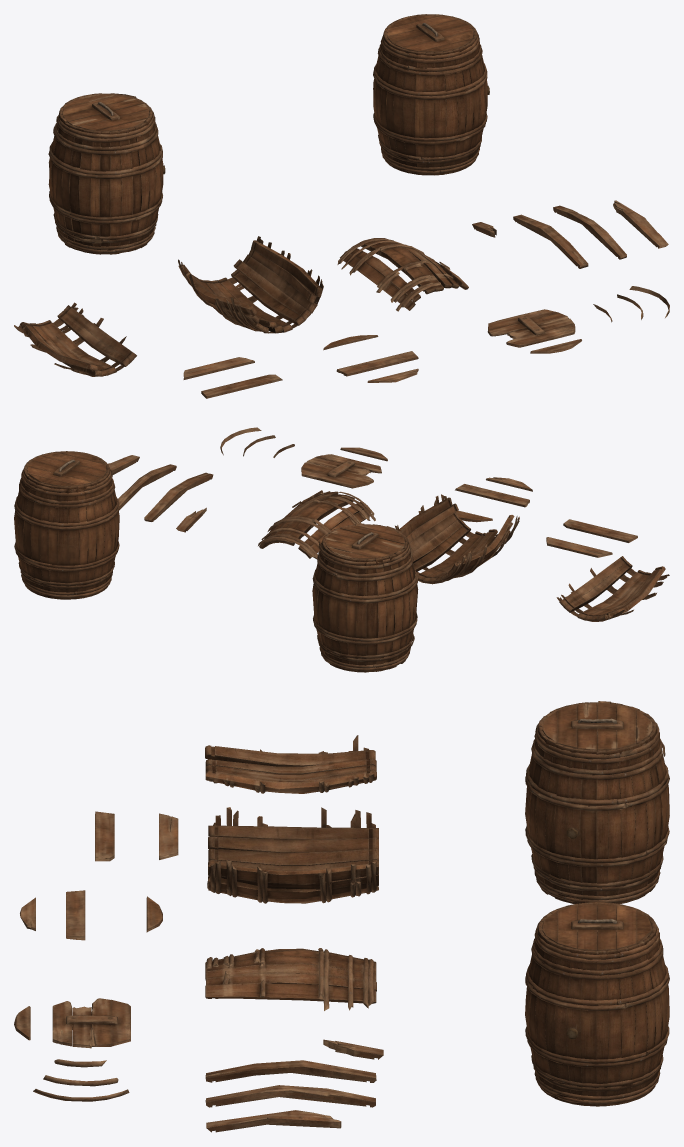
The model's file is wooden_barrels_01.glb.
3 renders of one model, top to bottom at view 1: azimuth 30°, elevation 25°; view 2: azimuth 150°, elevation 25°; view 3: azimuth 270°, elevation 25°, orthographic. The views are drawn at different scales.
Parts seen in each view (by area): view 1: wooden_barrels_01_barrel02, wooden_barrels_01_barrel01, wooden_barrels_01_piece01, wooden_barrels_01_piece03, wooden_barrels_01_piece02, wooden_barrels_01_piece08, wooden_barrels_01_piece04, wooden_barrels_01_piece05, wooden_barrels_01_piece06, wooden_barrels_01_piece11, wooden_barrels_01_piece14, wooden_barrels_01_piece13; view 2: wooden_barrels_01_barrel02, wooden_barrels_01_barrel01, wooden_barrels_01_piece01, wooden_barrels_01_piece03, wooden_barrels_01_piece02, wooden_barrels_01_piece08, wooden_barrels_01_piece04, wooden_barrels_01_piece14, wooden_barrels_01_piece05, wooden_barrels_01_piece11, wooden_barrels_01_piece13; view 3: wooden_barrels_01_barrel01, wooden_barrels_01_barrel02, wooden_barrels_01_piece01, wooden_barrels_01_piece03, wooden_barrels_01_piece02, wooden_barrels_01_piece08, wooden_barrels_01_piece04, wooden_barrels_01_piece05, wooden_barrels_01_piece06, wooden_barrels_01_piece11, wooden_barrels_01_piece14, wooden_barrels_01_piece13 (+1 smaller).
Part boxes in pixels (box(x1,y1,x2,y2)): wooden_barrels_01_barrel02: box(48, 93, 165, 254); wooden_barrels_01_barrel01: box(373, 14, 489, 175); wooden_barrels_01_piece01: box(178, 236, 323, 333); wooden_barrels_01_piece03: box(337, 238, 468, 311); wooden_barrels_01_piece02: box(14, 302, 136, 376); wooden_barrels_01_piece08: box(487, 309, 575, 347); wooden_barrels_01_piece04: box(513, 214, 588, 268); wooden_barrels_01_piece05: box(553, 205, 626, 259); wooden_barrels_01_piece06: box(613, 200, 668, 248); wooden_barrels_01_piece11: box(336, 351, 418, 376); wooden_barrels_01_piece14: box(201, 374, 282, 398); wooden_barrels_01_piece13: box(183, 357, 254, 379); wooden_barrels_01_barrel02: box(312, 523, 418, 672); wooden_barrels_01_barrel01: box(14, 451, 119, 599); wooden_barrels_01_piece01: box(395, 494, 519, 584); wooden_barrels_01_piece03: box(258, 490, 375, 559); wooden_barrels_01_piece02: box(556, 556, 669, 621); wooden_barrels_01_piece08: box(301, 454, 381, 488); wooden_barrels_01_piece04: box(144, 472, 213, 521); wooden_barrels_01_piece14: box(563, 519, 637, 542); wooden_barrels_01_piece05: box(118, 464, 176, 510); wooden_barrels_01_piece11: box(455, 484, 529, 507); wooden_barrels_01_piece13: box(546, 537, 612, 557); wooden_barrels_01_barrel01: box(525, 902, 669, 1106); wooden_barrels_01_barrel02: box(525, 701, 669, 903); wooden_barrels_01_piece01: box(207, 807, 378, 903); wooden_barrels_01_piece03: box(205, 948, 376, 1010); wooden_barrels_01_piece02: box(205, 735, 376, 793); wooden_barrels_01_piece08: box(52, 998, 130, 1048); wooden_barrels_01_piece04: box(205, 1060, 376, 1082); wooden_barrels_01_piece05: box(205, 1085, 375, 1107); wooden_barrels_01_piece06: box(206, 1110, 341, 1132); wooden_barrels_01_piece11: box(66, 890, 85, 940); wooden_barrels_01_piece14: box(95, 811, 114, 861); wooden_barrels_01_piece13: box(159, 813, 178, 859).
Bounding box in the file's own units: 4.44 × 0.9567 × 3.34.
3 materials, 3 textured.
